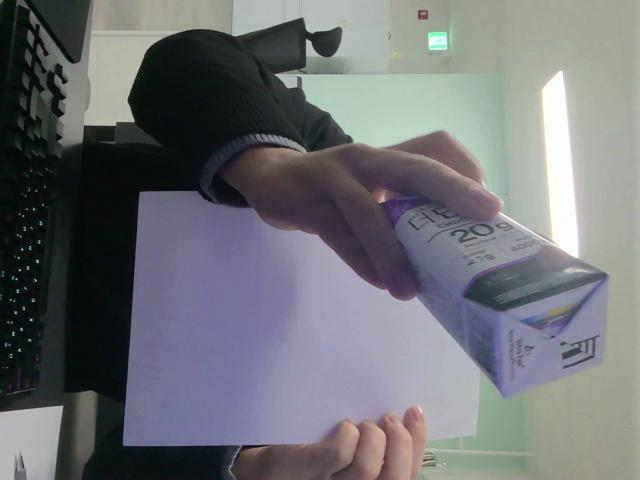milk: (383, 197, 607, 396)
